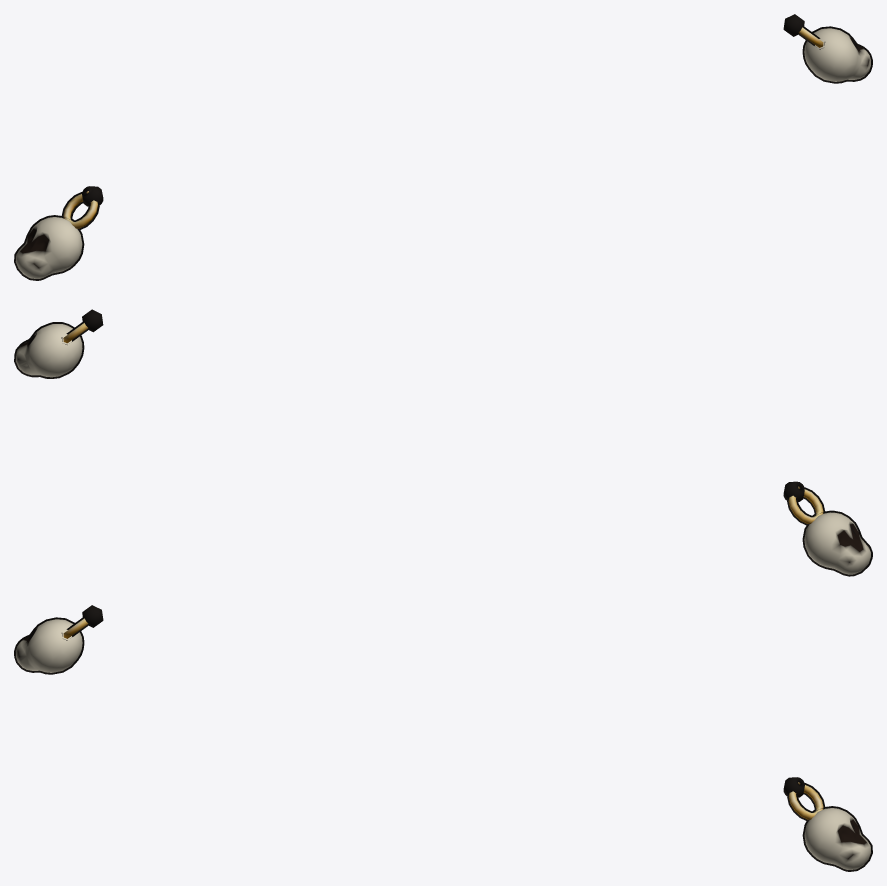
Rendered from earring_skull_female_hi.glb.
3 renders of one model, top to bottom at view 1: azimuth 30°, elevation 25°; view 2: azimuth 150°, elevation 25°; view 3: azimuth 330°, elevation 25°, orthographic.
Parts seen in each view (by area): view 1: earring_skull_female_hi; view 2: earring_skull_female_hi; view 3: earring_skull_female_hi.
Part boxes in pixels (x1,y1,x2,y2): earring_skull_female_hi: (14, 14, 872, 280); earring_skull_female_hi: (14, 309, 872, 576); earring_skull_female_hi: (14, 605, 872, 871).
Bounding box in the file's own units: 0.587 × 0.0516 × 0.0387.
